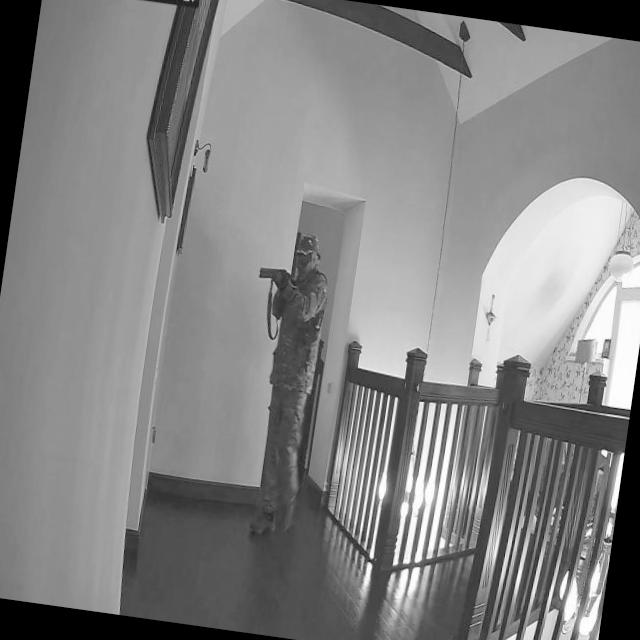gun: (255, 258, 301, 292)
person with a gun: (222, 226, 339, 548)
